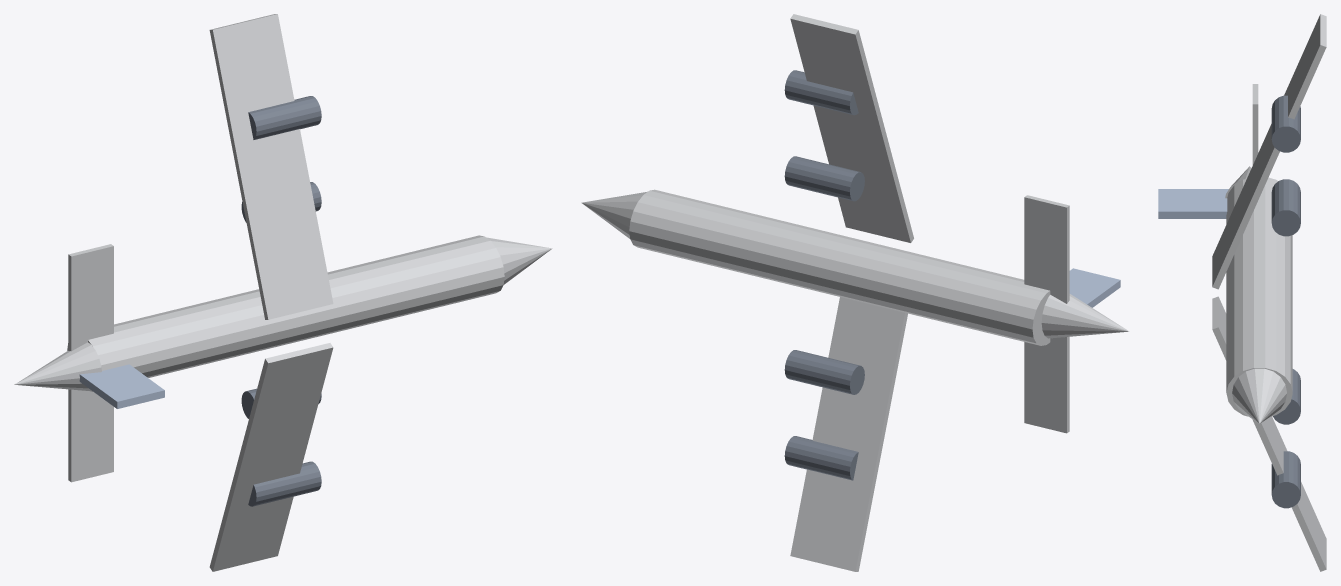
The model's file is super.glb.
The picture shows the model from 3 angles, left to right: view 1: azimuth 30°, elevation 25°; view 2: azimuth 150°, elevation 25°; view 3: azimuth 270°, elevation 25°; orthographic projection. The views are drawn at different scales.
Parts seen in each view (by area): view 1: body, engines, fin; view 2: body, engines, fin; view 3: body, engines, fin.
Boxes of the visible parts, x1,y1,x2,y2 form: body: [14, 14, 552, 571]; engines: [241, 96, 321, 506]; fin: [79, 364, 164, 408]; body: [581, 14, 1129, 571]; engines: [784, 70, 864, 480]; fin: [1069, 268, 1120, 307]; body: [1212, 14, 1326, 571]; engines: [1271, 95, 1300, 508]; fin: [1158, 189, 1228, 218].
Size of the model in its own units: 84.62 by 80.64 by 23.33.
